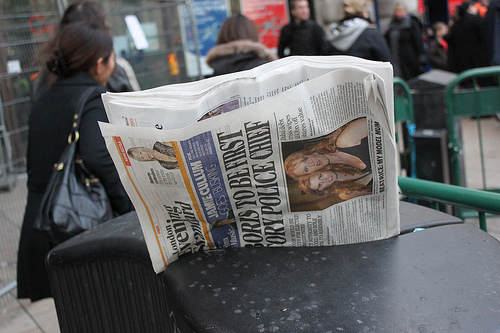litter: (95, 54, 397, 272)
